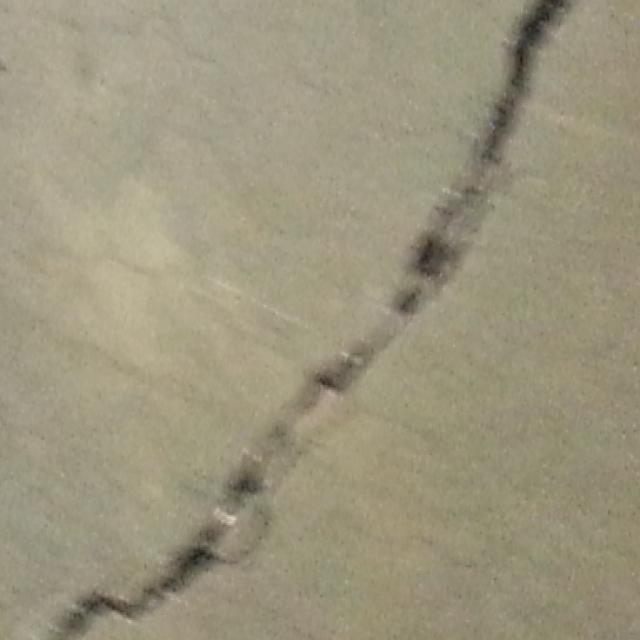Annular: (166, 473, 285, 579)
Diagonal: (244, 259, 463, 464), (426, 0, 586, 257)
Transverse: (65, 578, 180, 640)
